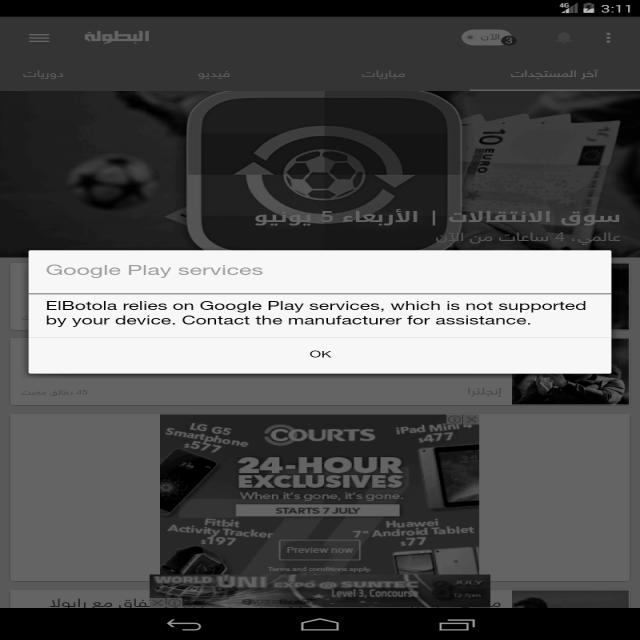Button: (230, 502, 408, 520)
ImageButton: (17, 27, 64, 49), (591, 26, 619, 49)
ImageView: (24, 100, 602, 208)
TextView: (36, 298, 600, 330), (36, 258, 286, 284), (226, 455, 407, 487), (76, 27, 164, 48), (182, 68, 271, 88), (503, 68, 605, 82), (18, 64, 90, 82), (296, 343, 342, 361)
